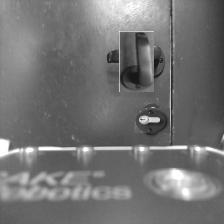Door Handle: (113, 38, 160, 86)
Lock: (136, 105, 168, 135)
